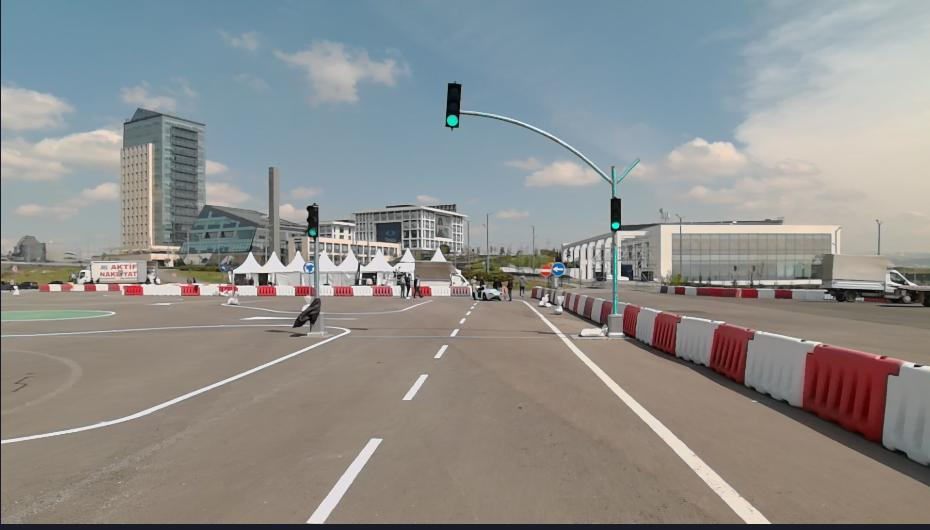nesne: (0, 293, 768, 524), (0, 295, 480, 526), (303, 298, 767, 524), (516, 290, 762, 524), (0, 322, 351, 445), (624, 301, 813, 414), (462, 109, 643, 197), (800, 342, 898, 442), (308, 437, 384, 525), (744, 329, 816, 407), (821, 251, 918, 305), (883, 366, 929, 470), (707, 320, 755, 385), (124, 283, 307, 295), (76, 259, 159, 285), (676, 315, 715, 368), (289, 294, 326, 338), (414, 259, 471, 285), (651, 310, 679, 355), (578, 312, 624, 337), (743, 285, 821, 298), (632, 307, 657, 346), (659, 282, 733, 295), (444, 82, 463, 128), (402, 372, 429, 401), (611, 230, 618, 314), (305, 200, 320, 236), (472, 283, 502, 301), (142, 282, 180, 296), (624, 300, 638, 337), (695, 286, 733, 298), (588, 299, 604, 326), (547, 295, 566, 315), (313, 236, 319, 298), (609, 199, 621, 229), (411, 273, 425, 298), (179, 282, 200, 298), (400, 270, 412, 298), (516, 269, 528, 296), (598, 300, 610, 326), (504, 273, 514, 301), (274, 285, 295, 298), (550, 261, 567, 277), (582, 296, 593, 320), (199, 284, 219, 297), (219, 284, 240, 296), (331, 284, 353, 295), (732, 274, 742, 297), (754, 286, 773, 298), (351, 285, 373, 295), (371, 285, 393, 295), (791, 289, 813, 299), (539, 261, 553, 276), (255, 285, 274, 296), (577, 295, 586, 318), (774, 288, 792, 299), (538, 292, 550, 308), (430, 285, 449, 295), (225, 293, 240, 305), (124, 285, 142, 294), (450, 285, 470, 293), (239, 286, 256, 295), (303, 261, 315, 273), (742, 286, 755, 297), (317, 284, 331, 294), (572, 294, 579, 314), (295, 285, 307, 296), (566, 296, 574, 312), (554, 276, 558, 306), (435, 345, 445, 357), (531, 286, 539, 299), (72, 284, 84, 292), (683, 285, 695, 293), (95, 284, 108, 291), (389, 284, 399, 293), (38, 283, 49, 291), (543, 275, 547, 295), (61, 284, 72, 291), (108, 285, 119, 292), (308, 273, 311, 297), (676, 286, 685, 294), (50, 284, 60, 291), (84, 284, 95, 290), (660, 283, 667, 292), (424, 285, 430, 295), (667, 286, 676, 292)
